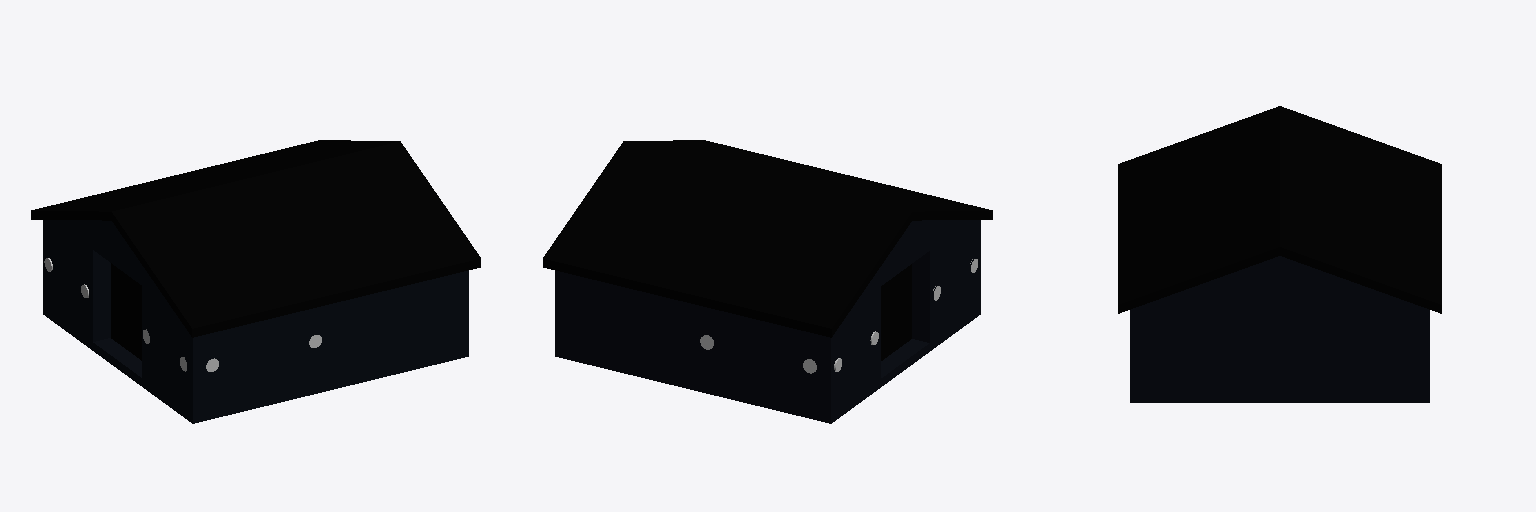
File: house.obj
3 renders of one model, left to right at view 1: azimuth 30°, elevation 25°; view 2: azimuth 150°, elevation 25°; view 3: azimuth 270°, elevation 25°, orthographic.
Visible parts, largest first — view 1: Cube.001_Cube.004; view 2: Cube.001_Cube.004; view 3: Cube.001_Cube.004.
Boxes of the visible parts, box(x1,y1,x2,y2) form: Cube.001_Cube.004: box(31, 140, 480, 423); Cube.001_Cube.004: box(543, 140, 992, 423); Cube.001_Cube.004: box(1118, 106, 1441, 402).
Bounding box in the file's own units: 8.84 × 4.65 × 8.57.